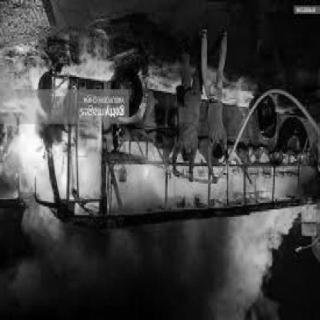Fire: (6, 71, 304, 223), (219, 214, 303, 298)
Smoke: (4, 220, 218, 320)
